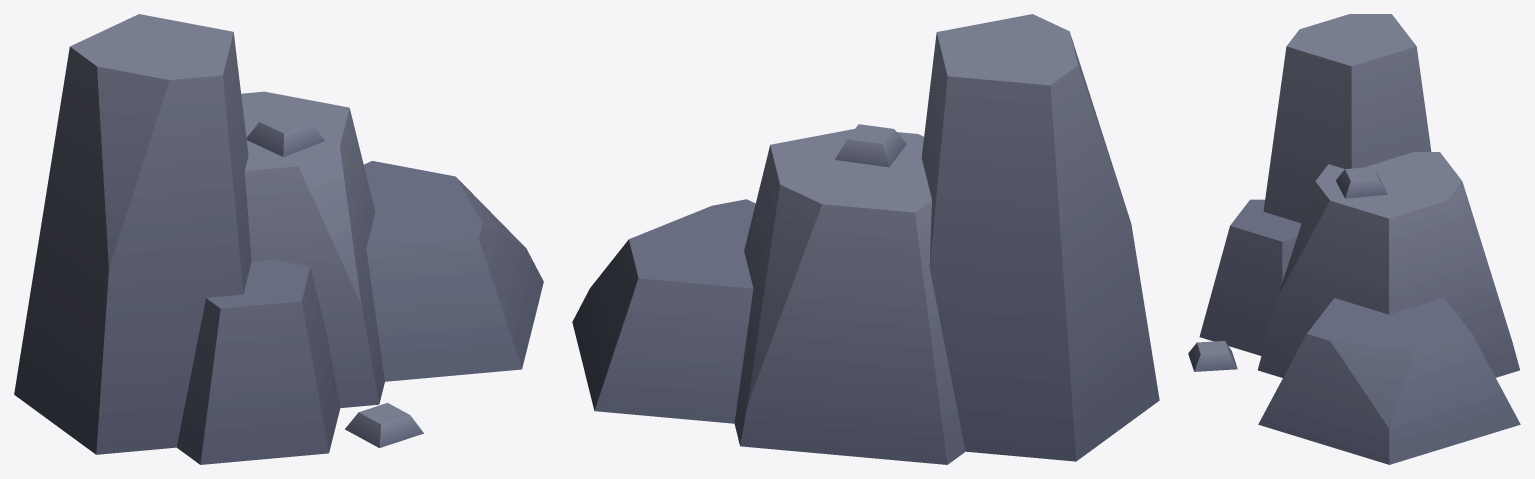
The model's file is kenney-survival-rock-c.glb.
The picture shows the model from 3 angles, left to right: view 1: azimuth 30°, elevation 25°; view 2: azimuth 150°, elevation 25°; view 3: azimuth 270°, elevation 25°; orthographic projection. The views are drawn at different scales.
Parts seen in each view (by area): view 1: rock-c; view 2: rock-c; view 3: rock-c.
Part boxes in pixels (box(x1,y1,x2,y2)): rock-c: box(14, 14, 543, 464); rock-c: box(572, 14, 1159, 464); rock-c: box(1188, 14, 1520, 464).
Bounding box in the file's own units: 0.7837 × 0.51 × 0.5659.
Materials: 1 (1 with a texture image).
